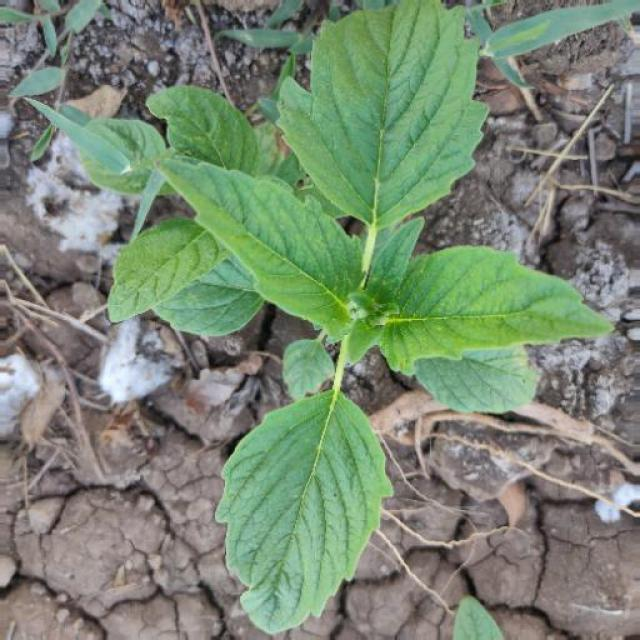crop: (125, 4, 620, 640)
